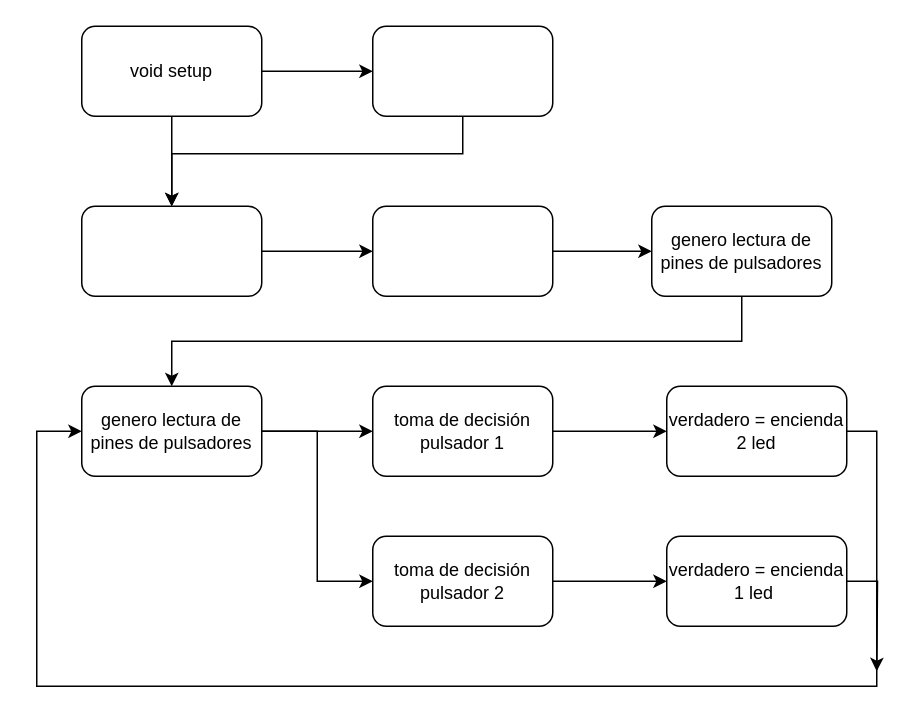
Image size: 917x725. Some labels were removed from this diagram. The box of each missing label's shape, as (x1, y1, x2, y2) in pixels:
declaro pines de led como apagados: (371, 205, 553, 296)
indico modo de uso de los pines para pulsador y salida para los led: (371, 25, 553, 116)
Loop: (80, 205, 262, 296)
